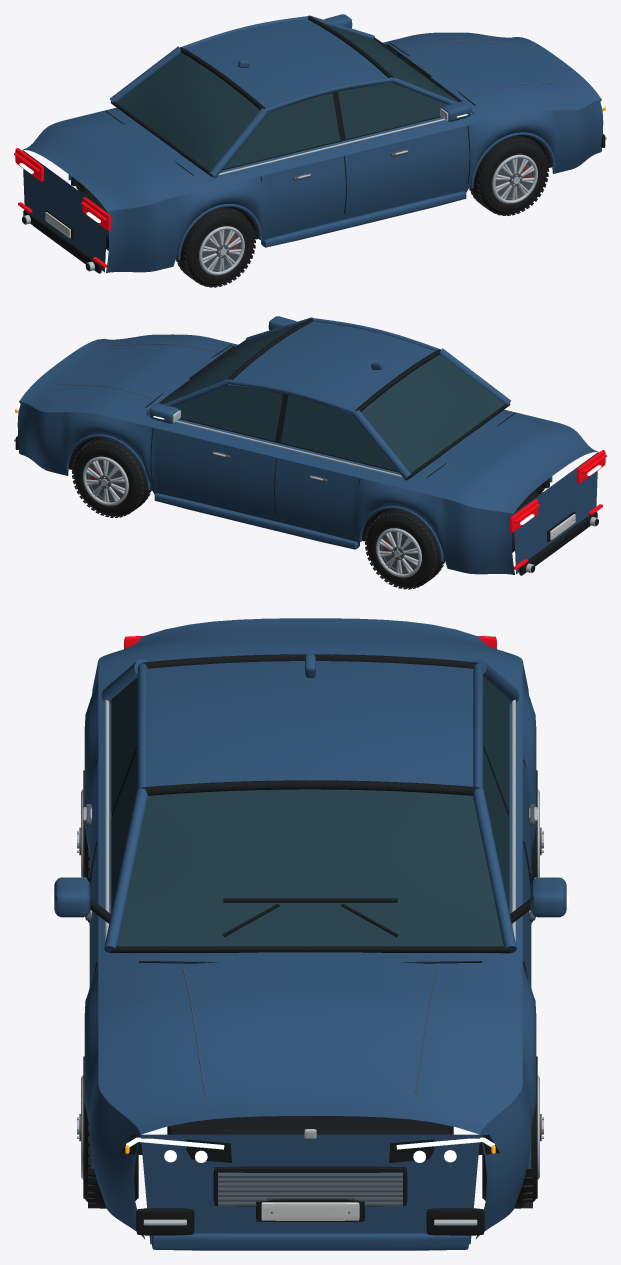
The model's file is sedan.glb.
The picture shows the model from 3 angles, top to bottom: view 1: azimuth 30°, elevation 25°; view 2: azimuth 150°, elevation 25°; view 3: azimuth 270°, elevation 25°; orthographic projection. The views are drawn at different scales.
Visible parts, largest first — view 1: Paint / body colour, Smoked automotive glass, Tyre rubber, Satin black trim, Satin aluminium, Tyre tread edges, Graphite alloy, Rear light lenses; view 2: Paint / body colour, Smoked automotive glass, Tyre rubber, Satin black trim, Satin aluminium, Tyre tread edges, Graphite alloy, Rear light lenses; view 3: Paint / body colour, Smoked automotive glass, Satin black trim, Graphite alloy, Satin aluminium, Tyre tread edges, Tyre rubber, Plain number plates, LED daylight.
Part boxes in pixels (left/top/right/bottom): Paint / body colour: left=22, top=14, right=603, bottom=272; Smoked automotive glass: left=116, top=23, right=458, bottom=170; Tyre rubber: left=78, top=136, right=547, bottom=285; Satin black trim: left=22, top=16, right=605, bottom=273; Satin aluminium: left=22, top=113, right=606, bottom=275; Tyre tread edges: left=76, top=137, right=549, bottom=287; Graphite alloy: left=47, top=41, right=564, bottom=271; Rear light lenses: left=14, top=148, right=111, bottom=267; Paint / body colour: left=17, top=316, right=598, bottom=574; Smoked automotive glass: left=162, top=325, right=504, bottom=472; Tyre rubber: left=73, top=438, right=542, bottom=587; Satin black trim: left=15, top=318, right=598, bottom=575; Satin aluminium: left=14, top=415, right=598, bottom=577; Tyre tread edges: left=72, top=439, right=544, bottom=589; Graphite alloy: left=56, top=343, right=573, bottom=573; Rear light lenses: left=509, top=450, right=606, bottom=569; Paint / body colour: left=54, top=618, right=566, bottom=1250; Smoked automotive glass: left=111, top=677, right=509, bottom=946; Satin black trim: left=90, top=654, right=530, bottom=1235; Graphite alloy: left=79, top=804, right=541, bottom=1213; Satin aluminium: left=77, top=699, right=543, bottom=1225; Tyre tread edges: left=83, top=770, right=537, bottom=1208; Tyre rubber: left=84, top=827, right=536, bottom=1208; Plain number plates: left=261, top=1202, right=359, bottom=1220; LED daylight: left=51, top=894, right=569, bottom=1162.
Size of the model in its own units: 4.89 by 1.52 by 2.14.
